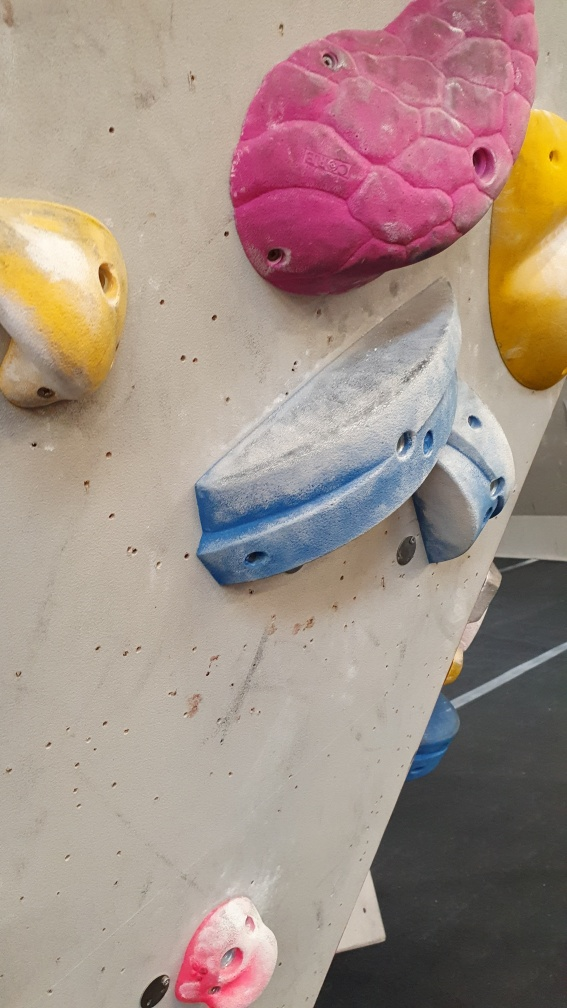Hand Start: (388, 530, 420, 571)
Pinch: (187, 274, 462, 593), (402, 370, 518, 564)
